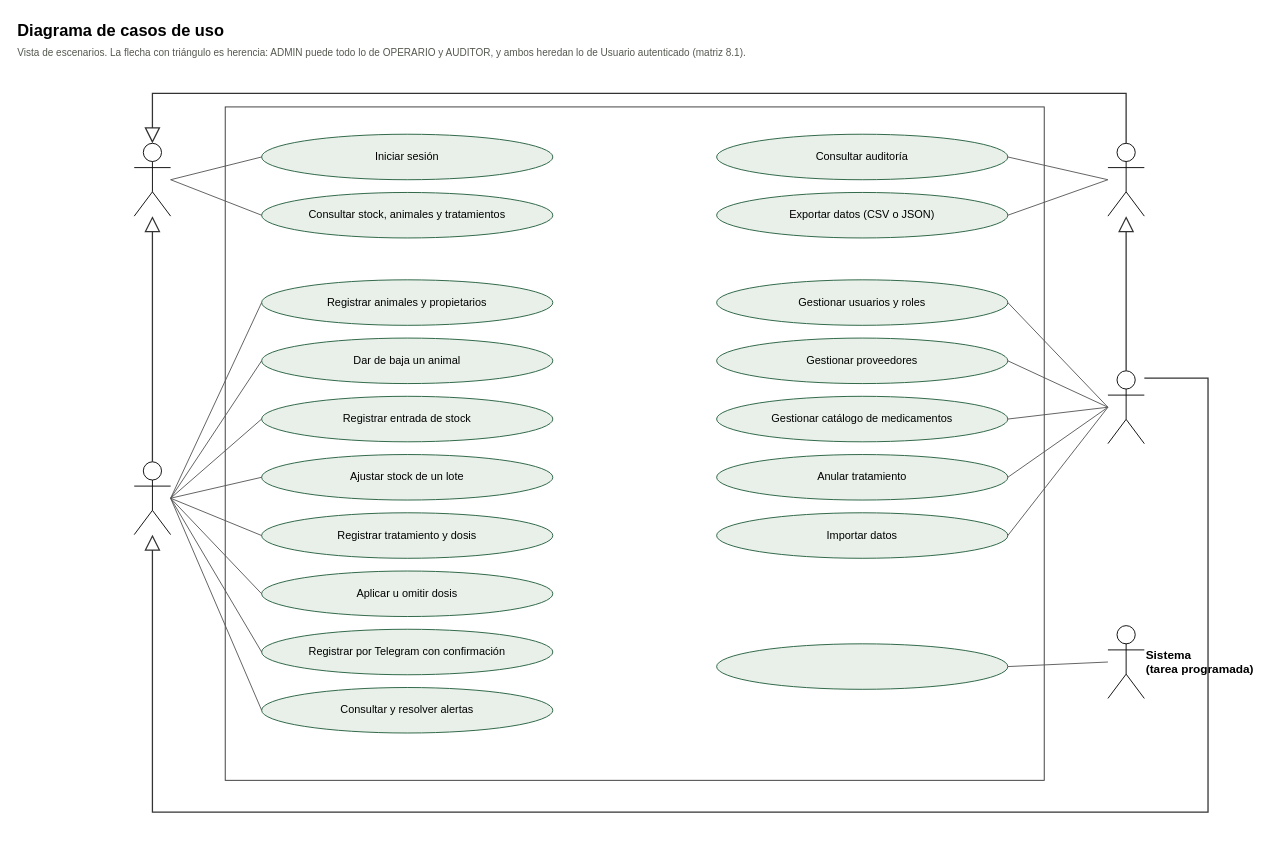
This 1269x843 diagram has some shape labels left out. The box of each missing label's shape, as (x1, y1, x2, y2) in pixels:
ADMIN: (1107, 370, 1144, 444)
AUDITOR: (1107, 142, 1144, 216)
Generar alertas de stock, vencimiento y dosis atrasadas: (716, 643, 1008, 689)
OPERARIO: (133, 461, 171, 535)
Sistema de trazabilidad Moncopulli: (224, 106, 1044, 780)
Usuario autenticado: (133, 142, 171, 216)
